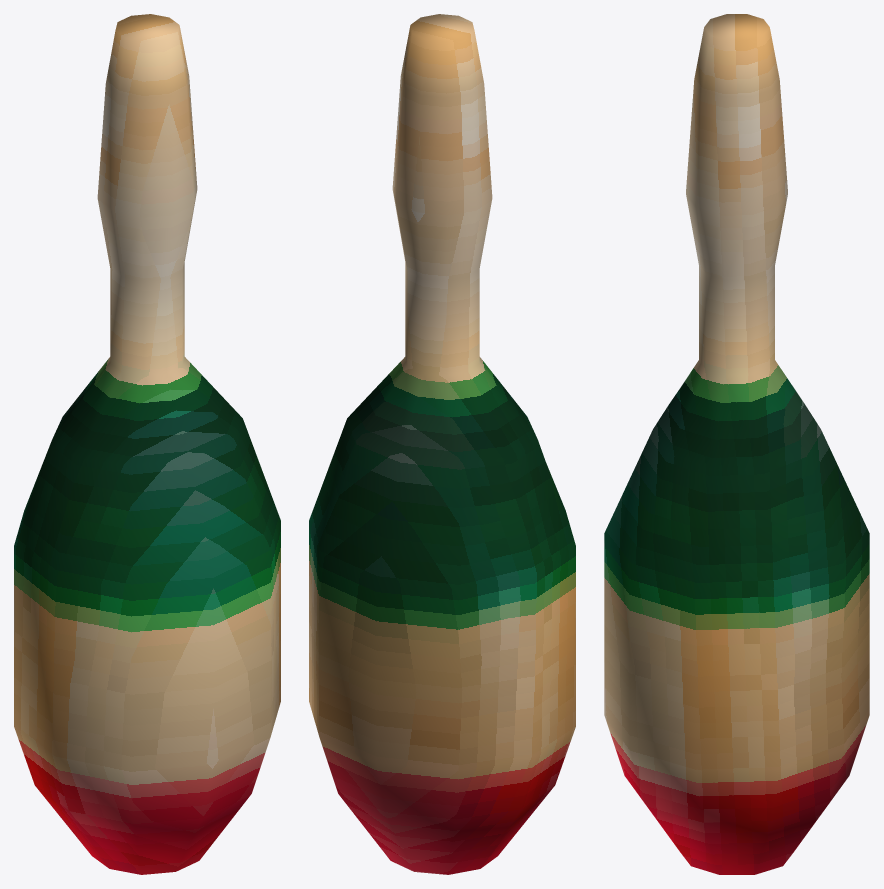
File: HC_Maracas_AP.fbx
3 renders of one model, left to right at view 1: azimuth 30°, elevation 25°; view 2: azimuth 150°, elevation 25°; view 3: azimuth 270°, elevation 25°, orthographic.
Visible parts, largest first — view 1: Cylinder; view 2: Cylinder; view 3: Cylinder.
Boxes of the visible parts, x1,y1,x2,y2 form: Cylinder: (14,14,280,874); Cylinder: (309,14,575,874); Cylinder: (604,14,869,874).
Bounding box in the file's own units: 0.0374 × 0.1304 × 0.038.
